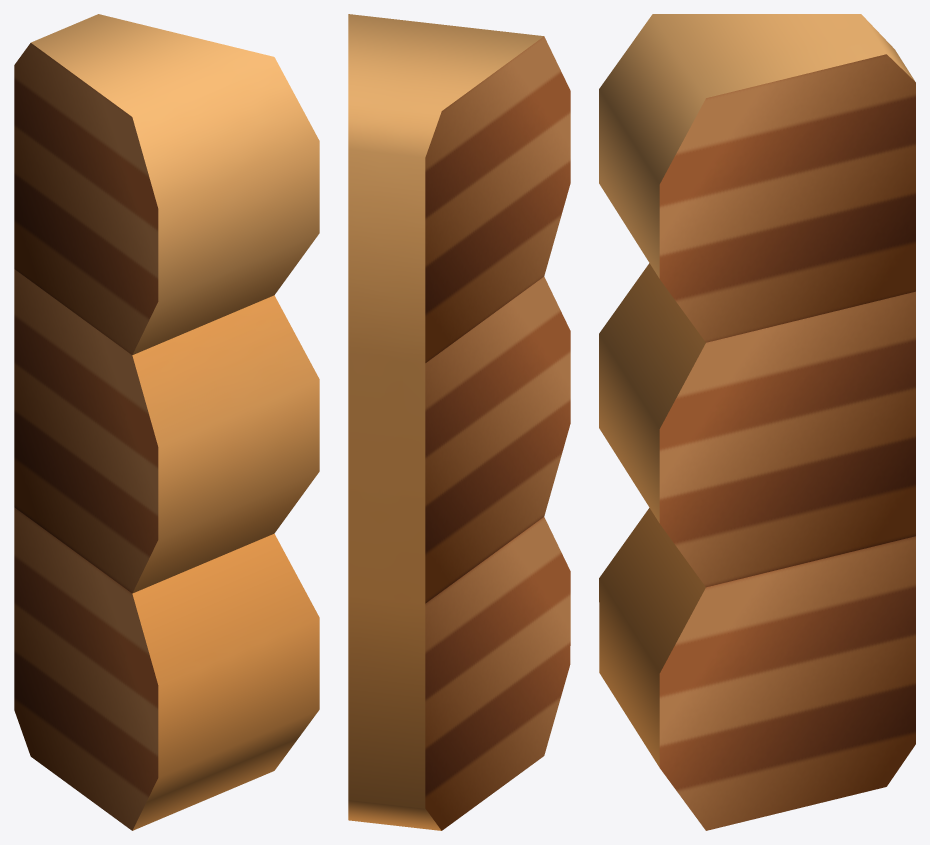
The model's file is m_Baumkuchen03_Slice.fbx.
3 views of the same model, side by side, from view 1: azimuth 30°, elevation 25°; view 2: azimuth 150°, elevation 25°; view 3: azimuth 270°, elevation 25° (orthographic). The views are drawn at different scales.
Visible parts, largest first — view 1: m_Baumkuchen03_Slice; view 2: m_Baumkuchen03_Slice; view 3: m_Baumkuchen03_Slice.
Boxes of the visible parts, <box> form: m_Baumkuchen03_Slice: <box>14,14,319,830</box>; m_Baumkuchen03_Slice: <box>348,14,570,830</box>; m_Baumkuchen03_Slice: <box>599,14,915,830</box>.
Size of the model in its own units: 4.28 by 15.31 by 6.
